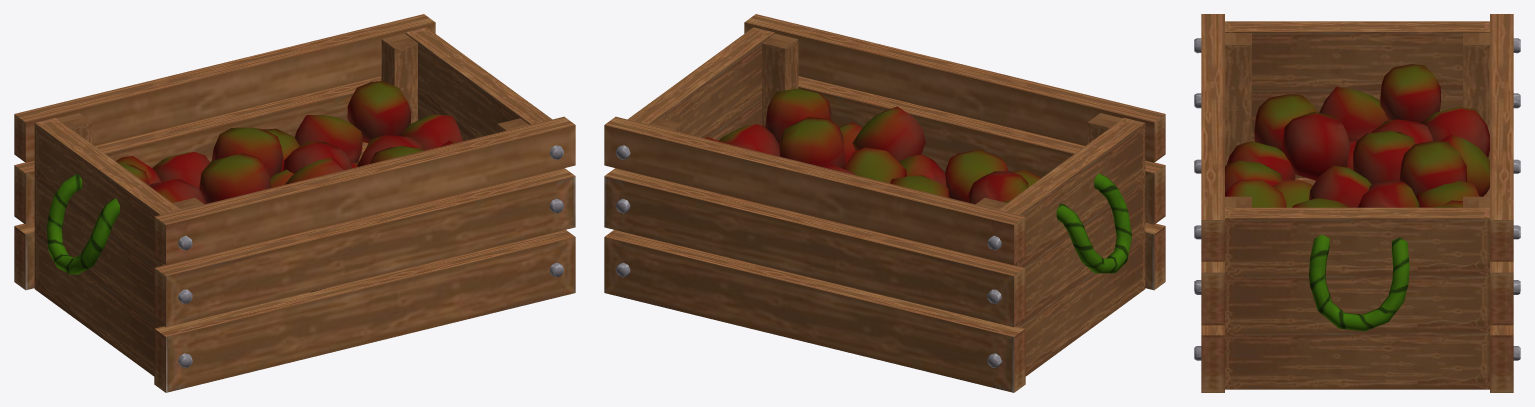
File: Apples.glb
3 views of the same model, side by side, from view 1: azimuth 30°, elevation 25°; view 2: azimuth 150°, elevation 25°; view 3: azimuth 270°, elevation 25° (orthographic). The views are drawn at different scales.
Visible parts, largest first — view 1: Apples; view 2: Apples; view 3: Apples.
Boxes of the visible parts, x1,y1,x2,y2 form: Apples: (14,14,575,392); Apples: (604,14,1165,392); Apples: (1194,14,1520,392).
Size of the model in its own units: 0.7138 by 0.2438 by 0.4142.
3 materials, 3 textured.
